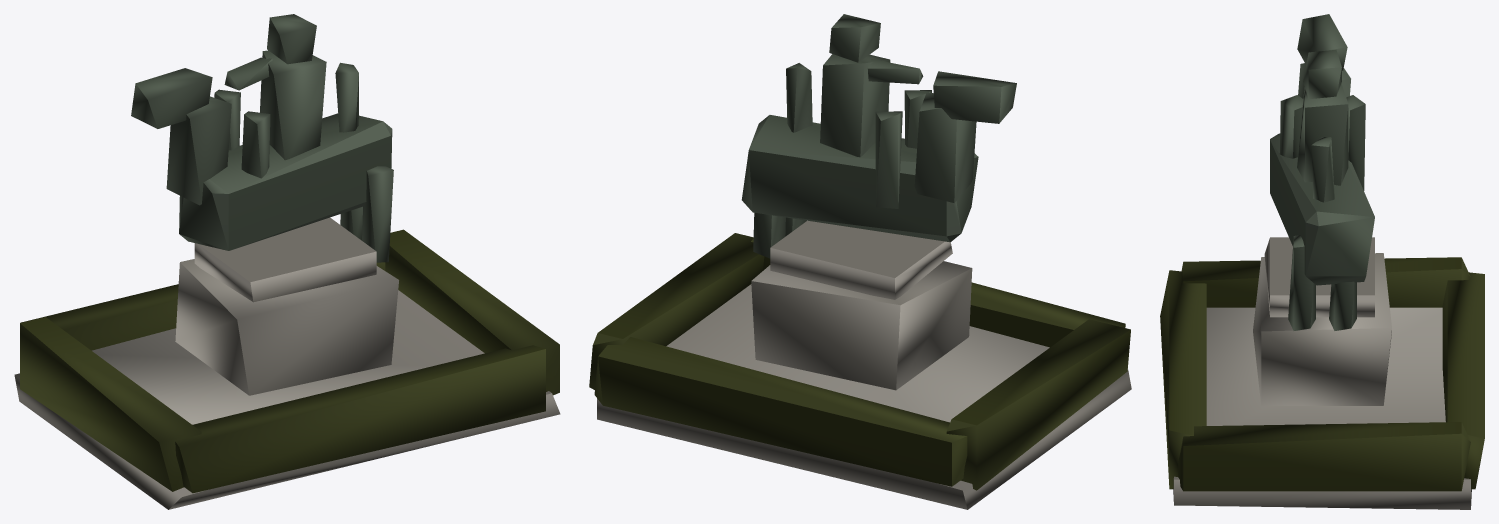
File: statue-rider-v1.lod2.glb
3 views of the same model, side by side, from view 1: azimuth 30°, elevation 25°; view 2: azimuth 150°, elevation 25°; view 3: azimuth 270°, elevation 25° (orthographic). The views are drawn at different scales.
Visible parts, largest first — view 1: statue-rider-v1.lod2; view 2: statue-rider-v1.lod2; view 3: statue-rider-v1.lod2.
Boxes of the visible parts, <box> form: statue-rider-v1.lod2: <box>14,14,560,509</box>; statue-rider-v1.lod2: <box>589,14,1131,509</box>; statue-rider-v1.lod2: <box>1160,14,1484,509</box>.
Size of the model in its own units: 4.7 by 4.4 by 3.5.
